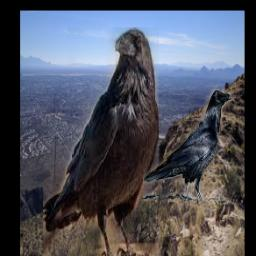Crow: (43, 27, 159, 256), (144, 90, 232, 202)
